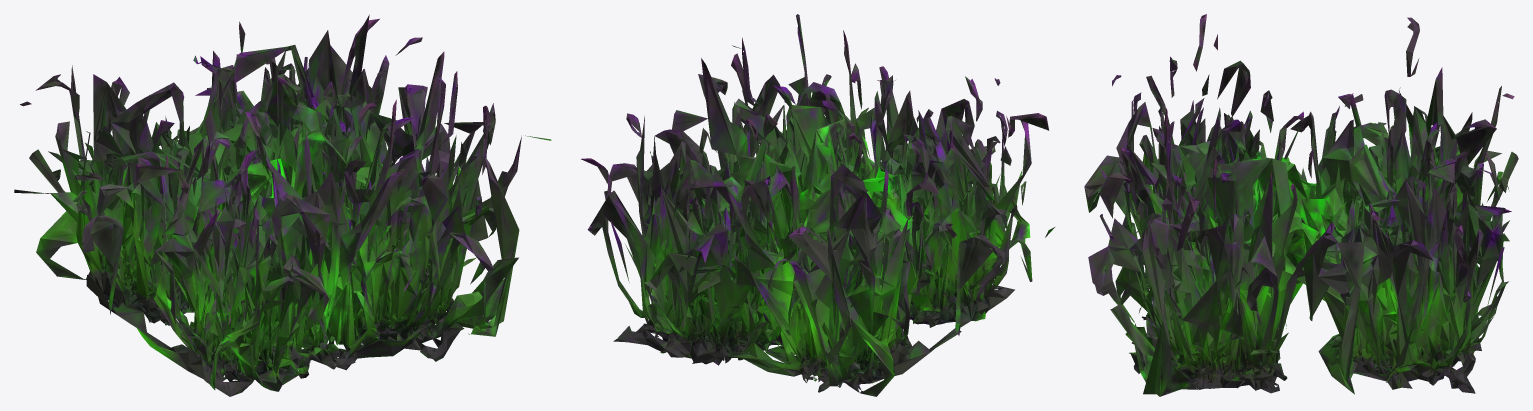
The model's file is Blighted_corrupted_g_0613161833_texture.fbx.
3 renders of one model, left to right at view 1: azimuth 30°, elevation 25°; view 2: azimuth 150°, elevation 25°; view 3: azimuth 270°, elevation 25°, orthographic. The views are drawn at different scales.
Visible parts, largest first — view 1: temp; view 2: temp; view 3: temp.
Boxes of the visible parts, <box> form: temp: <box>14,14,551,396</box>; temp: <box>581,14,1054,396</box>; temp: <box>1084,14,1518,396</box>.
Size of the model in its own units: 197 by 134 by 197.
Materials: 1 (1 with a texture image).
